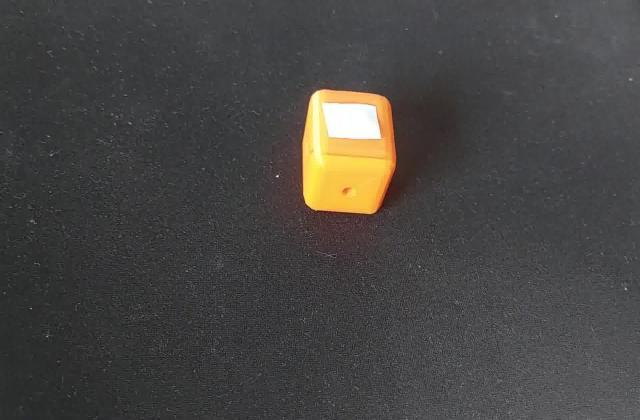sticker: (298, 82, 402, 219)
white: (318, 99, 386, 148)
